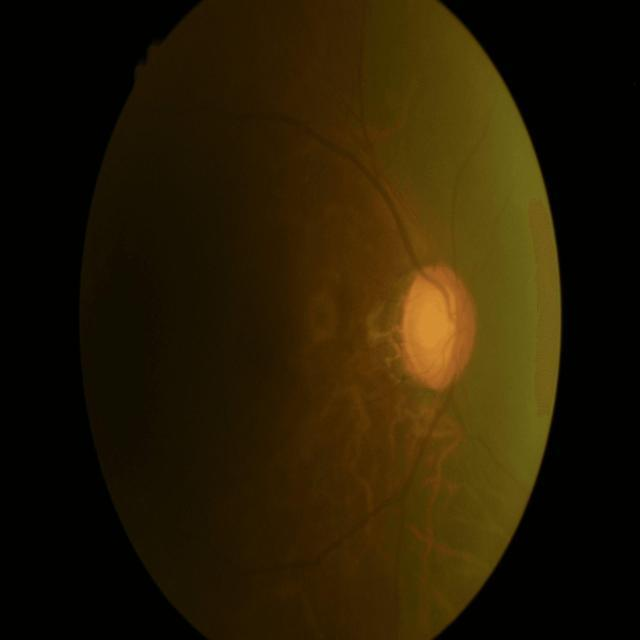cup: (413, 278, 460, 376)
disk: (402, 262, 477, 388)
